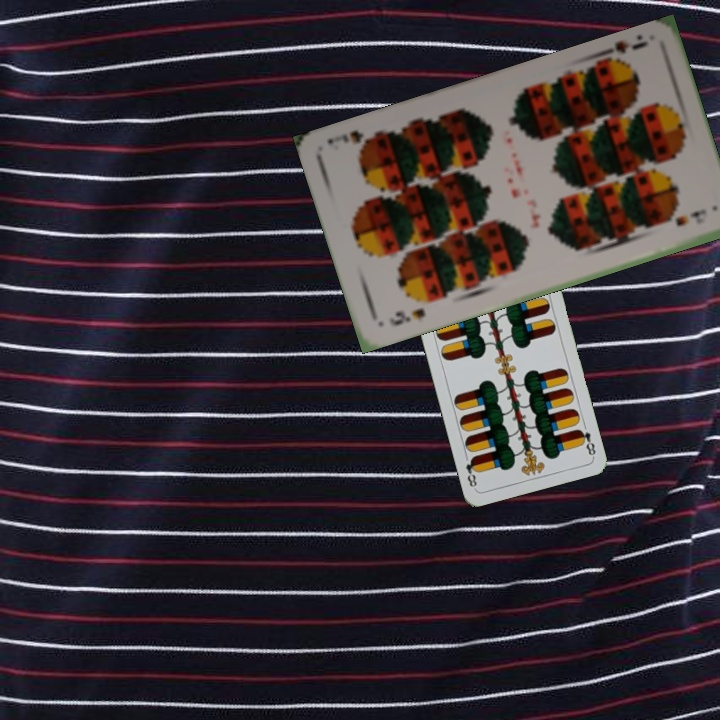E8: (574, 425, 598, 459)
S9: (596, 31, 651, 69), (385, 303, 428, 328)
